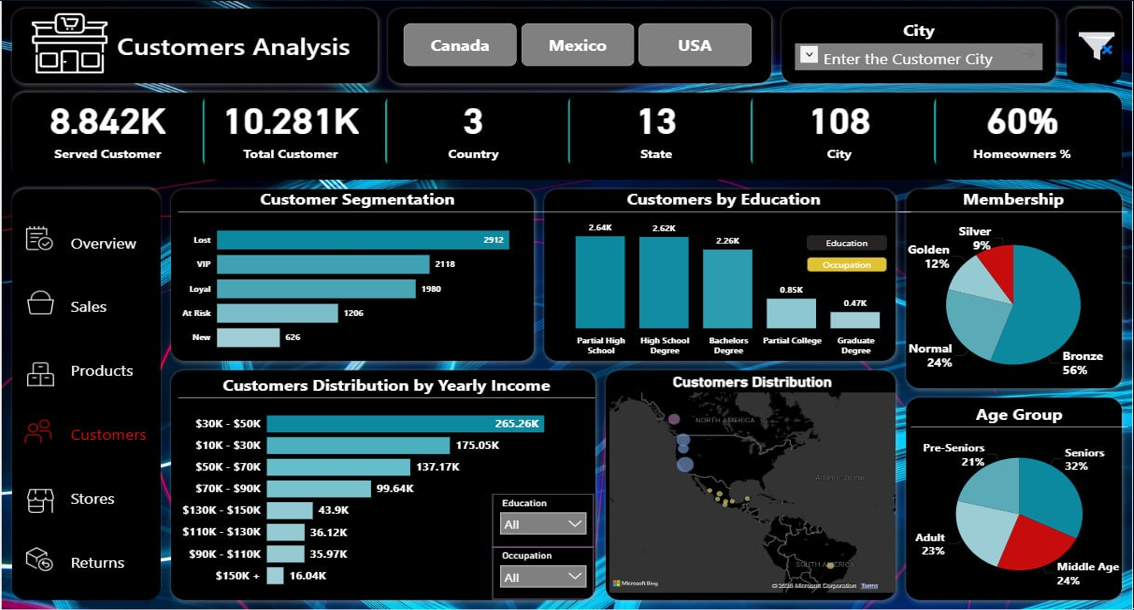

The page's visual inventory and layout, read from the dashboard file:
{"tool":"powerbi","page":{"name":"Customers","canvas":[1600,980],"ordinal":3},"visuals":[{"type":"cardVisual","fields":{"Data":["Count(vw_AllSalesFact.customer_id)","Count(vw_CleanCustomers.customer_id)","Count(vw_CleanCustomers.customer_country)","Count(vw_CleanCustomers.customer_state_province)","Count(vw_CleanCustomers.customer_city)","_Measures.Homeowners %"]},"box":[25.2,140.7,1549.2,135.3],"z":0},{"type":"textbox","box":[163.3,41.9,367.8,78.8],"z":1000,"group":"g1"},{"type":"pieChart","title":"Membership","fields":{"Category":["vw_CleanCustomers.member_card"],"Y":["Count(vw_AllSalesFact.customer_id)"]},"box":[1266.1,298.9,321.9,328.4],"z":1000},{"type":"pieChart","title":"Age Group","fields":{"Category":["vw_CleanCustomers.age_group"],"Y":["Count(vw_AllSalesFact.customer_id)"]},"box":[1282.5,638.8,305.4,310.4],"z":2000},{"type":"advancedSlicerVisual","fields":{"Values":["vw_CleanCustomers.customer_country"]},"box":[564.9,32.8,499.2,78.8],"z":3000},{"type":"clusteredBarChart","title":"Customers Distribution by Yearly Income","fields":{"Category":["vw_CleanCustomers.yearly_income"],"Y":["Count(vw_AllSalesFact.customer_id)"]},"box":[252.9,592.8,586.2,349.8],"z":4000},{"type":"map","title":"Customers Distribution","fields":{"Series":["vw_CleanCustomers.customer_country Hierarchy.customer_country"],"Size":["Count(vw_AllSalesFact.customer_id)"],"Category":["vw_CleanCustomers.customer_country Hierarchy.customer_state_province","vw_CleanCustomers.customer_country Hierarchy.customer_city"]},"box":[853.9,592.8,412.2,349.8],"z":5000},{"type":"columnChart","title":"Customers by Education","fields":{"Category":["vw_CleanCustomers.education"],"Y":["Count(vw_AllSalesFact.customer_id)"]},"box":[757,298.9,525.5,270.9],"z":6000},{"type":"bookmarkNavigator","box":[1136.3,372.8,113.3,59.1],"z":8000},{"type":"slicer","fields":{"Values":["vw_CleanCustomers.education"]},"box":[694.5,781,142.5,84.8],"z":9000},{"type":"slicer","fields":{"Values":["vw_CleanCustomers.occupation"]},"box":[694.5,865.7,142.5,83],"z":10000},{"type":"textSlicer","title":"City","fields":{"Values":["vw_CleanCustomers.customer_city"]},"box":[1115,32.8,358,78.8],"z":11000},{"type":"pageNavigator","box":[88.7,338.3,146.1,601],"z":12000},{"type":"barChart","title":"Customer Segmentation","fields":{"Y":["Count(vw_AllSalesFact.customer_id)"],"Category":["vw_CleanCustomers.Customer_Segment"]},"box":[253,298.5,504.5,271.2],"z":13000},{"type":"group","id":"g1","title":"Group 11","box":[163.3,41.9,367.8,78.8],"z":14000},{"type":"image","box":[42.7,11.5,116.6,128.1],"z":15000},{"type":"image","box":[1487.7,34.5,111.7,77.2],"z":16000},{"type":"group","id":"g2","title":"Group 1","box":[32.8,353.5,51.7,556.7],"z":17000},{"type":"image","box":[36.9,455,47.6,49.3],"z":19000,"group":"g2"},{"type":"image","box":[35.2,353.5,47.6,49.3],"z":22000,"group":"g2"},{"type":"image","box":[32.8,658.5,47.6,49.3],"z":23000,"group":"g2"},{"type":"image","box":[36.1,768.5,47.6,49.3],"z":24000,"group":"g2"},{"type":"image","box":[36.1,568.1,47.6,49.3],"z":25000,"group":"g2"},{"type":"image","box":[35.2,860.9,47.6,49.3],"z":26000,"group":"g2"}]}

Visuals, with their boxes on the page's 1600x980 design canvas (x1, y1, x2, y2). These are canvas units, not pixel positions in the 1134x610 screenshot, which may show the page scaled, cropped or inside an application window:
cardVisual - Count(vw_AllSalesFact.customer_id) x Count(vw_CleanCustomers.customer_id): <bbox>25, 141, 1574, 276</bbox>
textbox: <bbox>163, 42, 531, 121</bbox>
"Membership" pieChart: <bbox>1266, 299, 1588, 627</bbox>
"Age Group" pieChart: <bbox>1282, 639, 1588, 949</bbox>
advancedSlicerVisual - vw_CleanCustomers.customer_country: <bbox>565, 33, 1064, 112</bbox>
"Customers Distribution by Yearly Income" clusteredBarChart: <bbox>253, 593, 839, 943</bbox>
"Customers Distribution" map: <bbox>854, 593, 1266, 943</bbox>
"Customers by Education" columnChart: <bbox>757, 299, 1282, 570</bbox>
bookmarkNavigator: <bbox>1136, 373, 1250, 432</bbox>
slicer - vw_CleanCustomers.education: <bbox>694, 781, 837, 866</bbox>
slicer - vw_CleanCustomers.occupation: <bbox>694, 866, 837, 949</bbox>
"City" textSlicer: <bbox>1115, 33, 1473, 112</bbox>
pageNavigator: <bbox>89, 338, 235, 939</bbox>
"Customer Segmentation" barChart: <bbox>253, 298, 758, 570</bbox>
"Group 11" group: <bbox>163, 42, 531, 121</bbox>
image: <bbox>43, 12, 159, 140</bbox>
image: <bbox>1488, 34, 1599, 112</bbox>
"Group 1" group: <bbox>33, 354, 84, 910</bbox>
image: <bbox>37, 455, 84, 504</bbox>
image: <bbox>35, 354, 83, 403</bbox>
image: <bbox>33, 658, 80, 708</bbox>
image: <bbox>36, 768, 84, 818</bbox>
image: <bbox>36, 568, 84, 617</bbox>
image: <bbox>35, 861, 83, 910</bbox>
